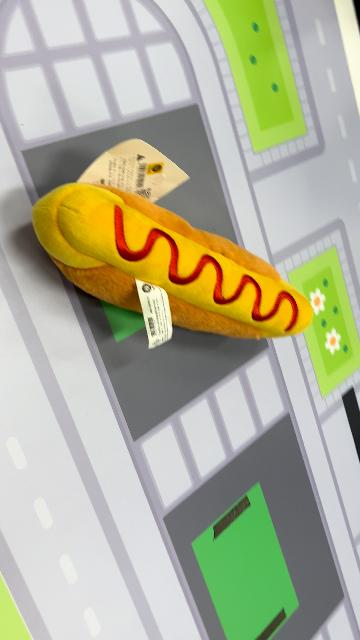hotdog: (31, 180, 315, 342)
